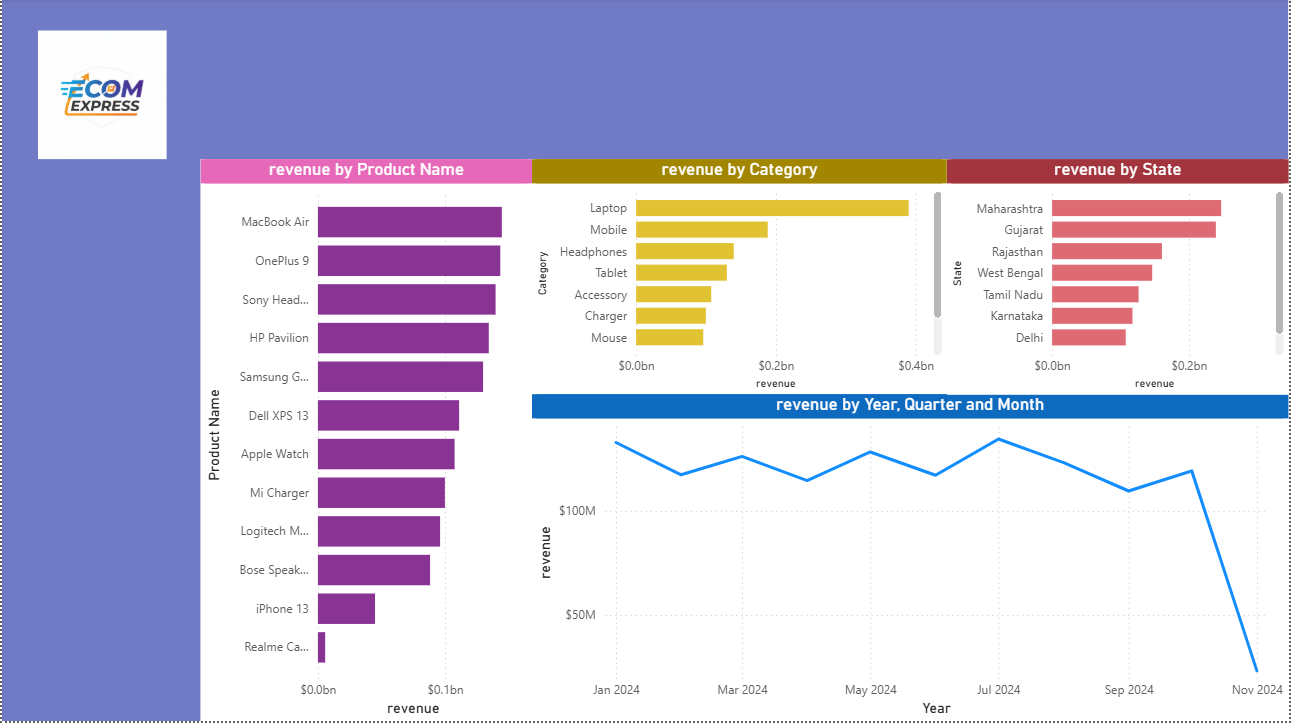

The page's visual inventory and layout, read from the dashboard file:
{"tool":"powerbi","page":{"name":"Page 1","canvas":[1280,720],"ordinal":0},"visuals":[{"type":"shape","box":[0,155.5,197.9,564.8],"z":0},{"type":"shape","box":[0,0,1280,160.5],"z":1000},{"type":"image","box":[28.6,32.3,143.1,128.1],"z":2000},{"type":"barChart","fields":{"Y":["table.revenue"],"Category":["products.Product Name"]},"box":[197.8,160.5,329.6,559.8],"z":3000},{"type":"barChart","fields":{"Y":["table.revenue"],"Category":["products.Category"]},"box":[527.4,160.5,413,233.9],"z":4000},{"type":"lineChart","fields":{"Category":["orders.Date and time of purchase.Variation.Date Hierarchy.Year","orders.Date and time of purchase.Variation.Date Hierarchy.Quarter","orders.Date and time of purchase.Variation.Date Hierarchy.Month","orders.Date and time of purchase.Variation.Date Hierarchy.Day"],"Y":["table.revenue"]},"box":[527.4,394.3,752.6,325.9],"z":5000},{"type":"barChart","fields":{"Category":["customers.State"],"Y":["table.revenue"]},"box":[940,160,340,234],"z":6000}]}

Visuals, with their boxes in screenshot pixels (x1, y1, x2, y2), scaled from the page's 1280x720 canvas onto the 1293x723 screenshot:
shape: x1=0 y1=156 x2=200 y2=722
shape: x1=0 y1=0 x2=1292 y2=161
image: x1=29 y1=32 x2=173 y2=161
barChart - table.revenue x products.Product Name: x1=200 y1=161 x2=533 y2=722
barChart - table.revenue x products.Category: x1=533 y1=161 x2=950 y2=396
lineChart - orders.Date and time of purchase.Variation.Date Hierarchy.Year x orders.Date and time of purchase.Variation.Date Hierarchy.Quarter: x1=533 y1=396 x2=1292 y2=722
barChart - customers.State x table.revenue: x1=950 y1=161 x2=1292 y2=396
